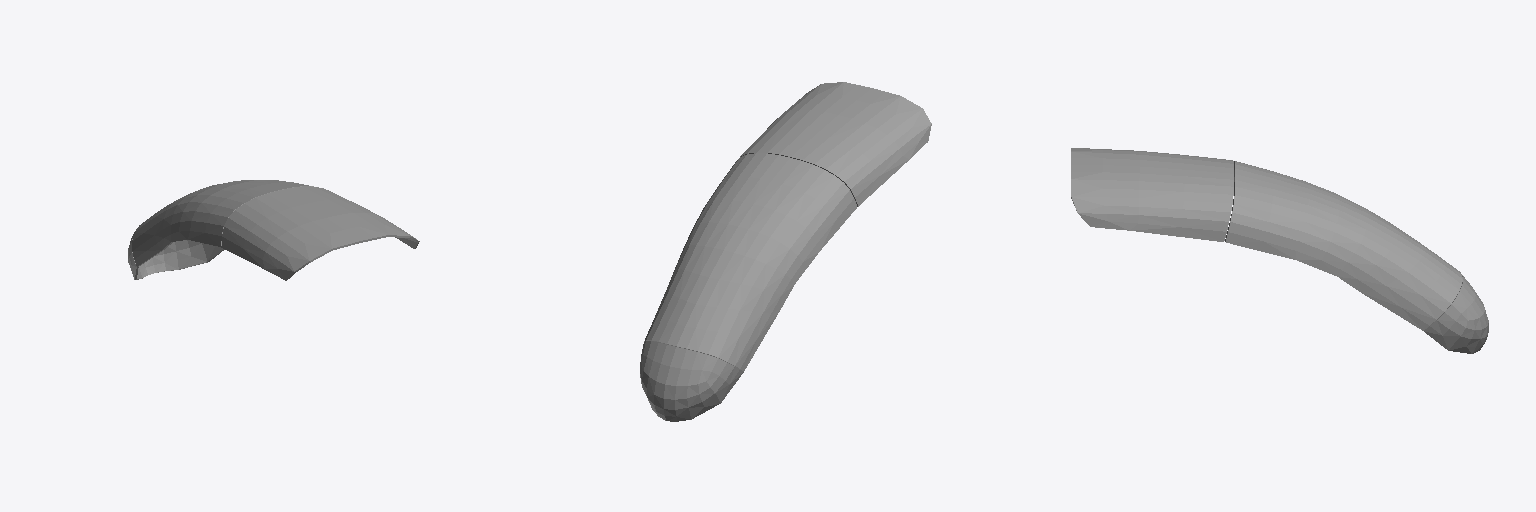
The model's file is aircraft_glass.obj.
3 renders of one model, left to right at view 1: azimuth 30°, elevation 25°; view 2: azimuth 150°, elevation 25°; view 3: azimuth 270°, elevation 25°, orthographic.
Visible parts, largest first — view 1: Cube.004_Cube.001; view 2: Cube.004_Cube.001; view 3: Cube.004_Cube.001.
Part boxes in pixels (left/top/right/bottom): Cube.004_Cube.001: left=128, top=180, right=419, bottom=280; Cube.004_Cube.001: left=640, top=82, right=931, bottom=421; Cube.004_Cube.001: left=1071, top=148, right=1488, bottom=353.
Bounding box in the file's own units: 1.12 × 1.46 × 3.04.